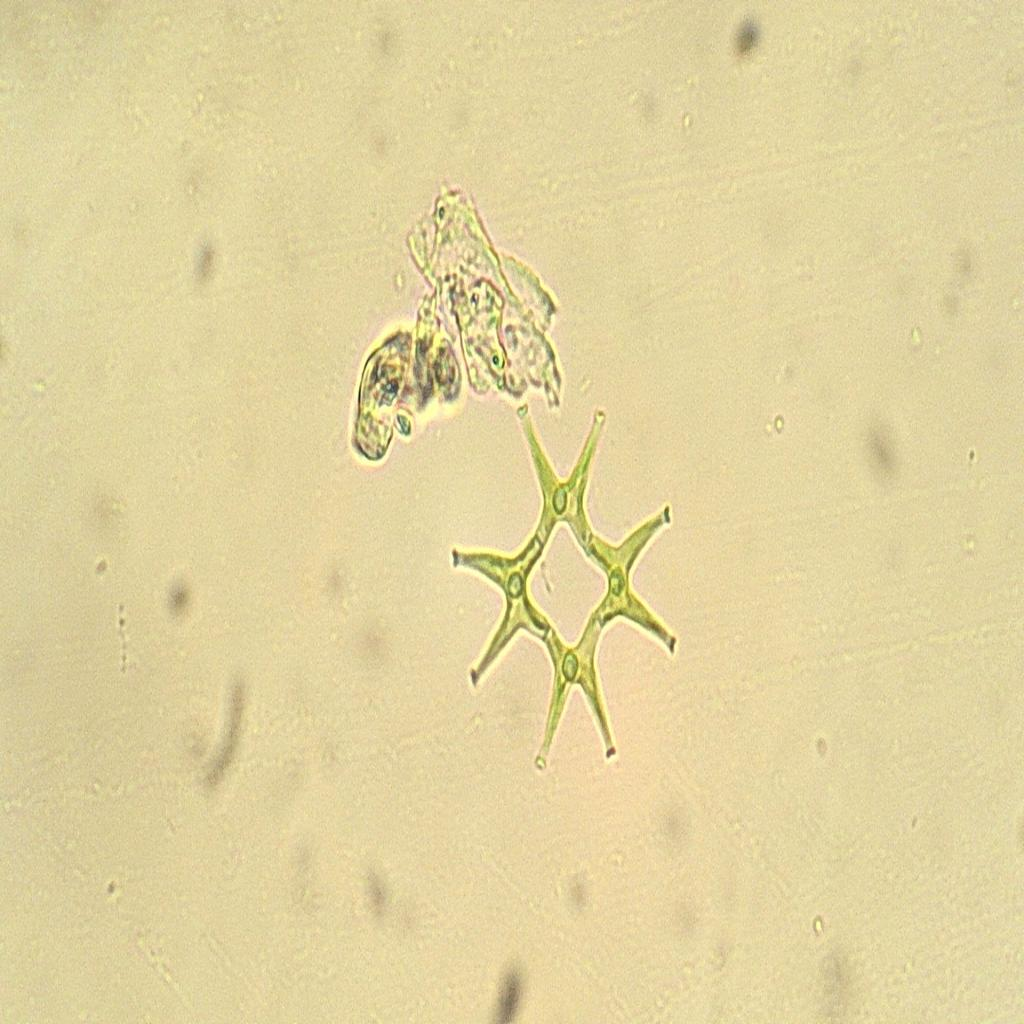Pediastrum_75O: (443, 386, 697, 804)
